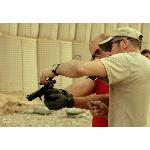Pistol: (26, 82, 54, 104)
